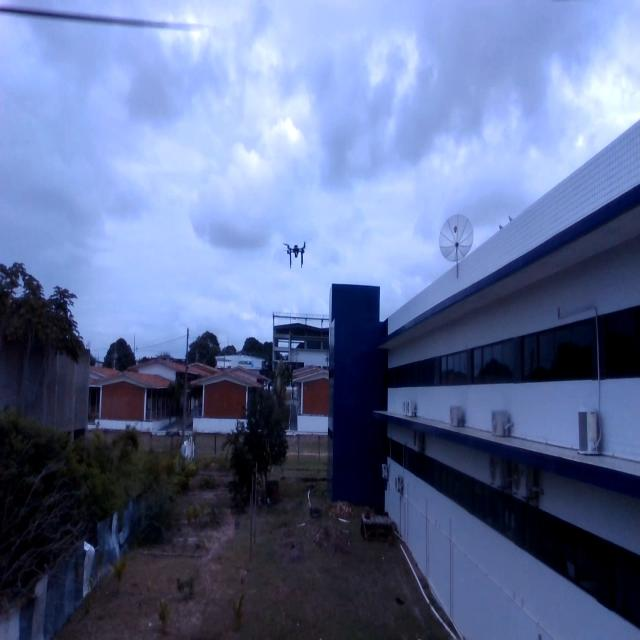-uav-: (279, 234, 314, 276)
